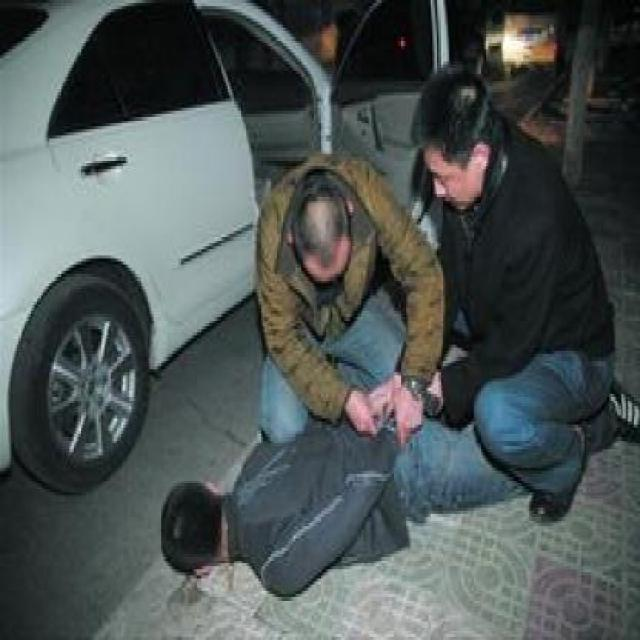fall: (148, 354, 555, 609)
